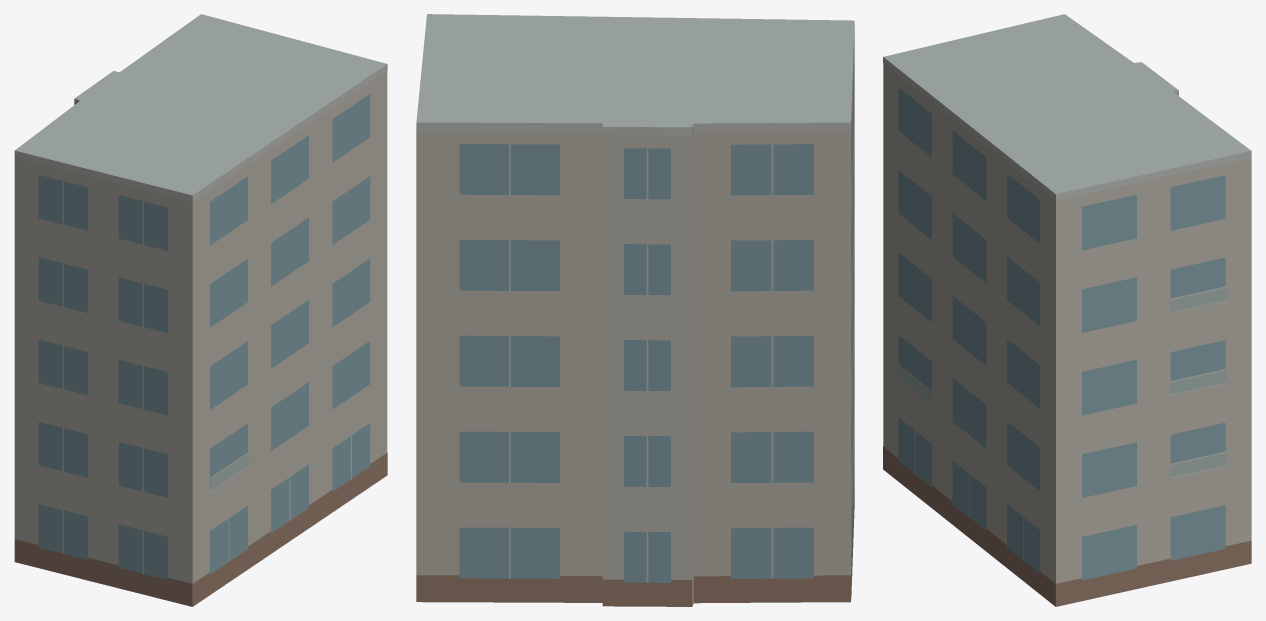
Rendered from survey-upis-32756172.glb.
The picture shows the model from 3 angles, left to right: view 1: azimuth 30°, elevation 25°; view 2: azimuth 150°, elevation 25°; view 3: azimuth 270°, elevation 25°; orthographic projection. The views are drawn at different scales.
Visible parts, largest first — view 1: survey-upis-32756172.tmp; view 2: survey-upis-32756172.tmp; view 3: survey-upis-32756172.tmp.
Part boxes in pixels (x1,y1,x2,y2): survey-upis-32756172.tmp: (14,14,387,606); survey-upis-32756172.tmp: (416,14,854,606); survey-upis-32756172.tmp: (883,14,1251,606).
Size of the model in its own units: 14.34 by 15.3 by 12.39.
